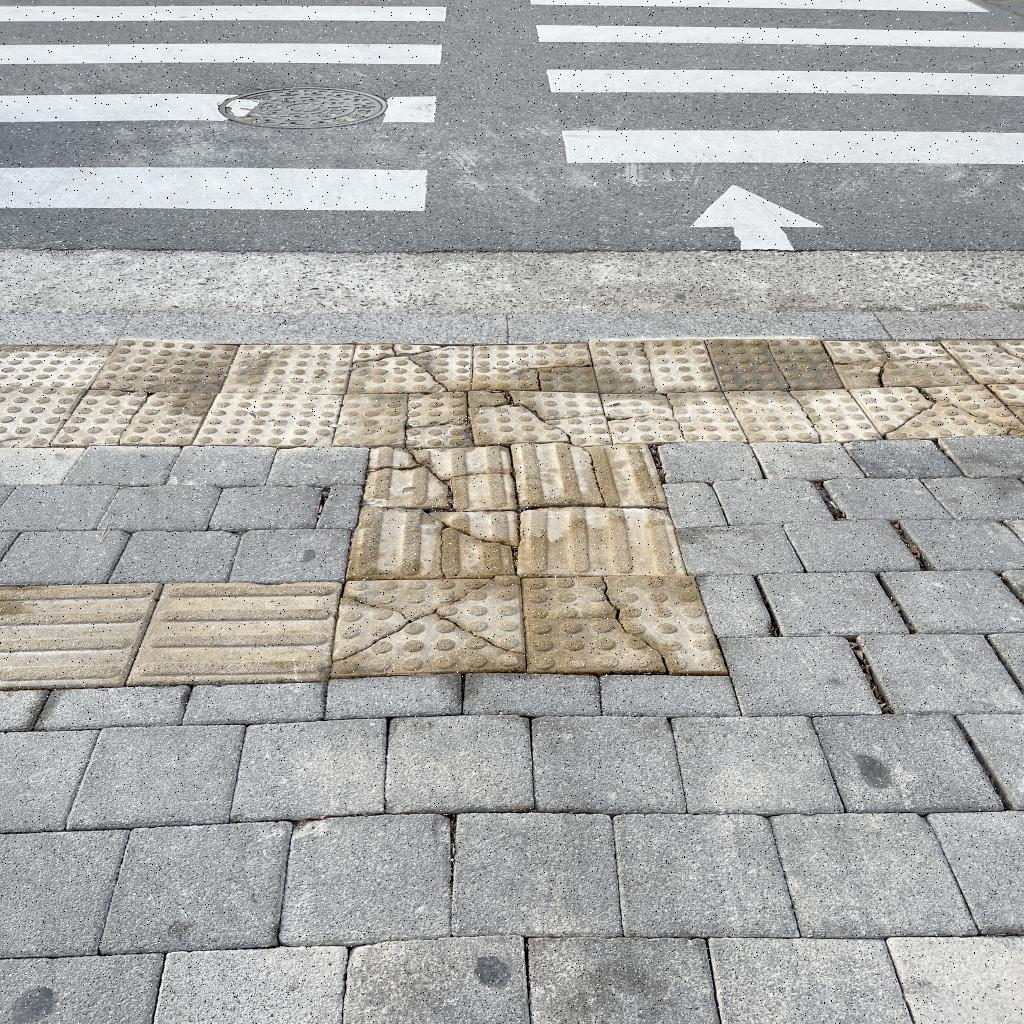Stop block broken: (328, 576, 524, 675), (523, 577, 725, 670), (851, 382, 1024, 440), (52, 390, 216, 448), (726, 389, 881, 441), (470, 390, 609, 444), (823, 341, 975, 389), (601, 392, 744, 443), (334, 393, 469, 447), (707, 338, 843, 390), (590, 339, 719, 392), (474, 341, 597, 391), (348, 345, 472, 394)
Stop block normal: (194, 393, 342, 446), (222, 345, 354, 393)
Straight block broken: (347, 509, 517, 582), (513, 439, 666, 510), (365, 446, 514, 507)
Straight block normal: (126, 581, 342, 683), (521, 510, 683, 574)
